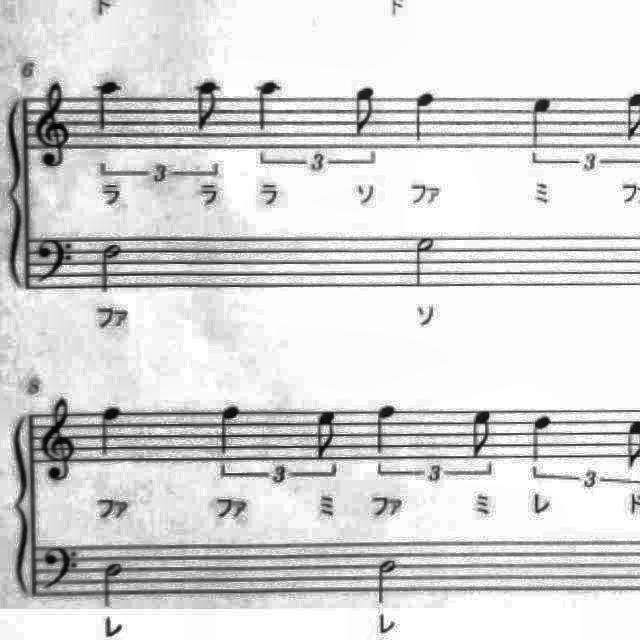Bass-clef: (38, 538, 88, 598), (34, 234, 82, 292)
Eighth-note: (188, 72, 228, 136), (345, 80, 383, 140), (466, 404, 502, 464), (310, 406, 344, 466)
Half-note: (95, 238, 129, 298), (410, 229, 442, 291), (97, 557, 131, 613), (371, 554, 404, 610)
Quarter-note: (523, 90, 561, 162), (250, 72, 290, 136), (90, 73, 130, 137), (406, 84, 444, 150), (94, 402, 130, 462), (522, 409, 558, 467), (368, 399, 404, 457), (214, 400, 248, 460)
Treble-clef: (37, 392, 85, 484), (34, 74, 78, 174)
